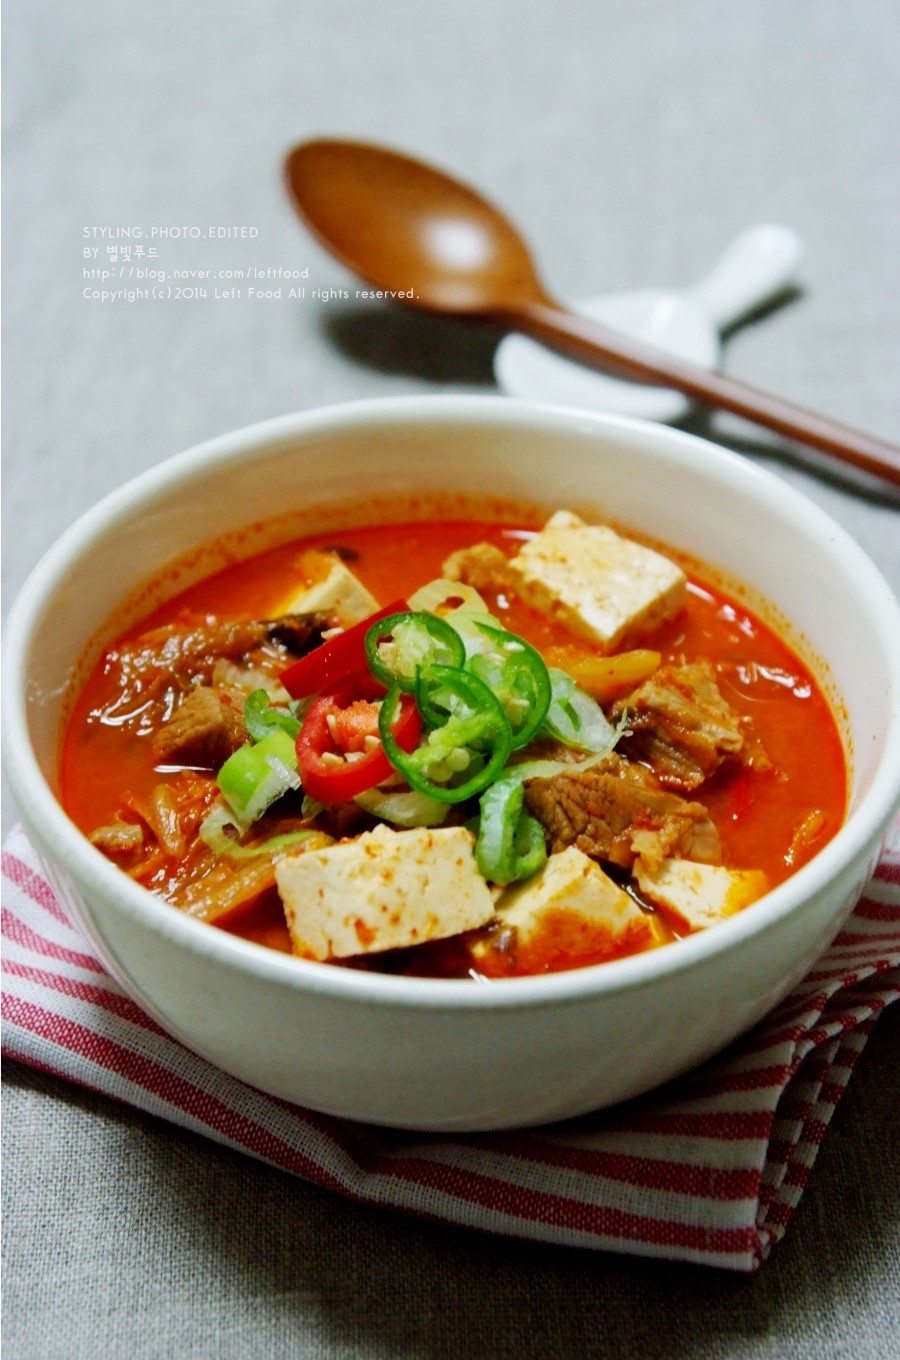gimchijjigae: (43, 491, 860, 994)
